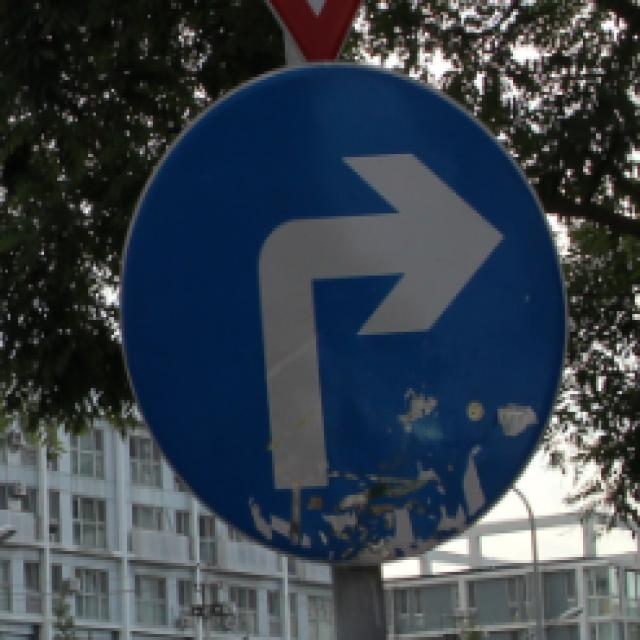right: (132, 67, 550, 544)
